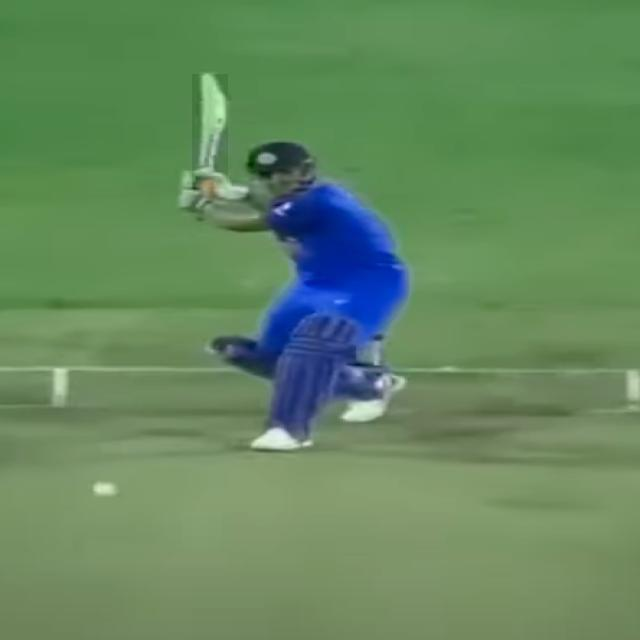bat: (193, 71, 229, 170)
